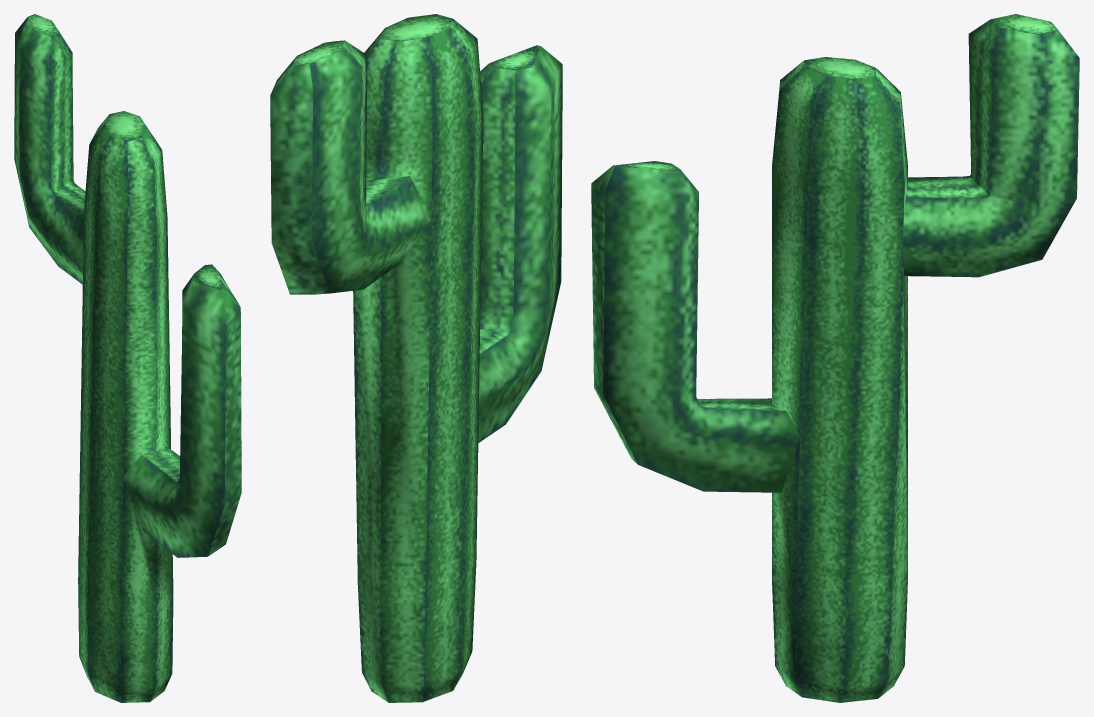
The model's file is cactus.glb.
The picture shows the model from 3 angles, left to right: view 1: azimuth 30°, elevation 25°; view 2: azimuth 150°, elevation 25°; view 3: azimuth 270°, elevation 25°; orthographic projection. The views are drawn at different scales.
Parts seen in each view (by area): view 1: Cactus; view 2: Cactus; view 3: Cactus.
Part boxes in pixels (x1,y1,x2,y2): Cactus: (14, 14, 241, 702); Cactus: (270, 14, 562, 702); Cactus: (591, 14, 1079, 702).
Bounding box in the file's own units: 0.7825 × 5.78 × 3.85.
Materials: 1 (1 with a texture image).
